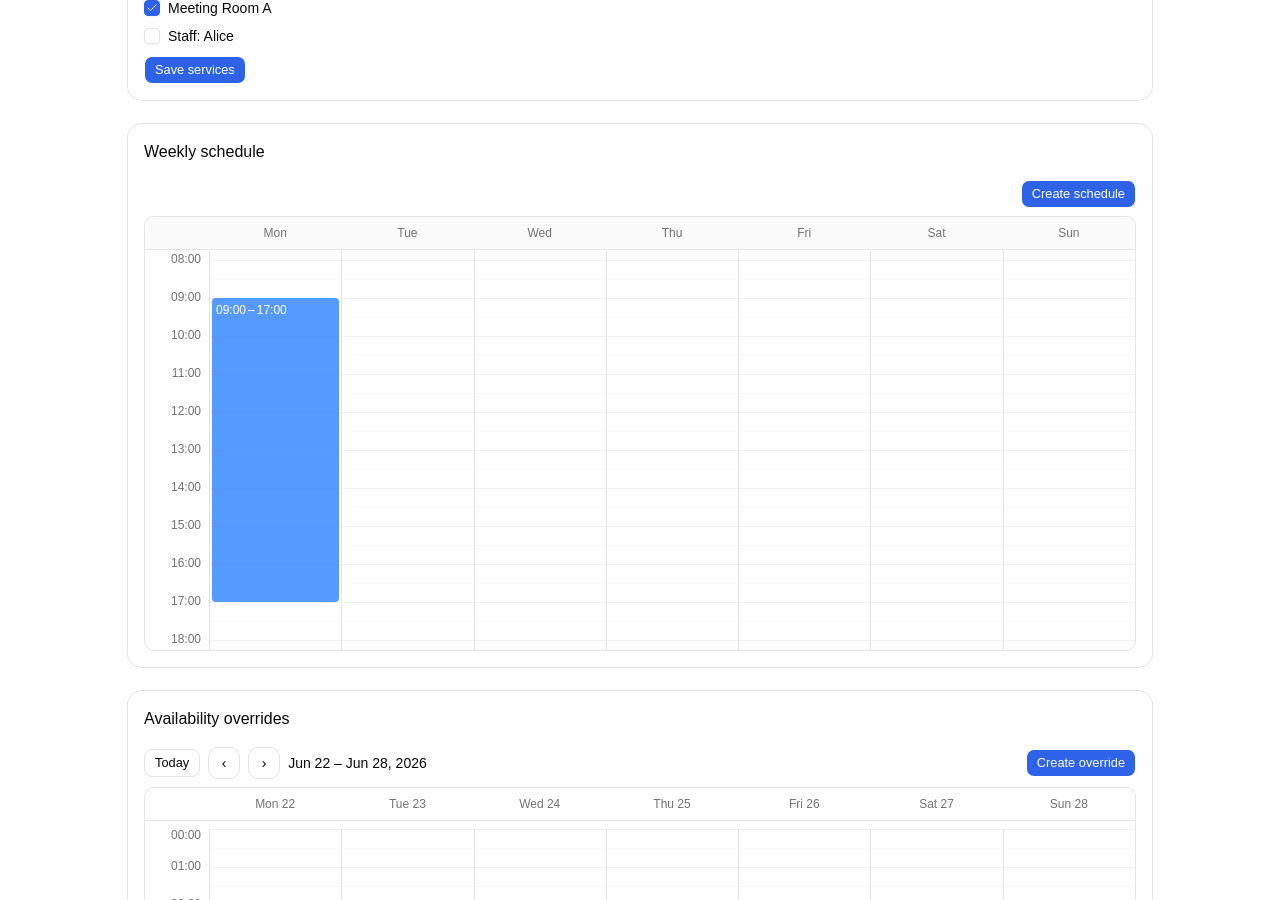
Test: Staff › Weekly schedule calendar › clicking a schedule block opens the schedule window panel
(page scrolled)
Step 1. Click the element with test id "schedule-block" → (276, 450), box [212,298,339,602]
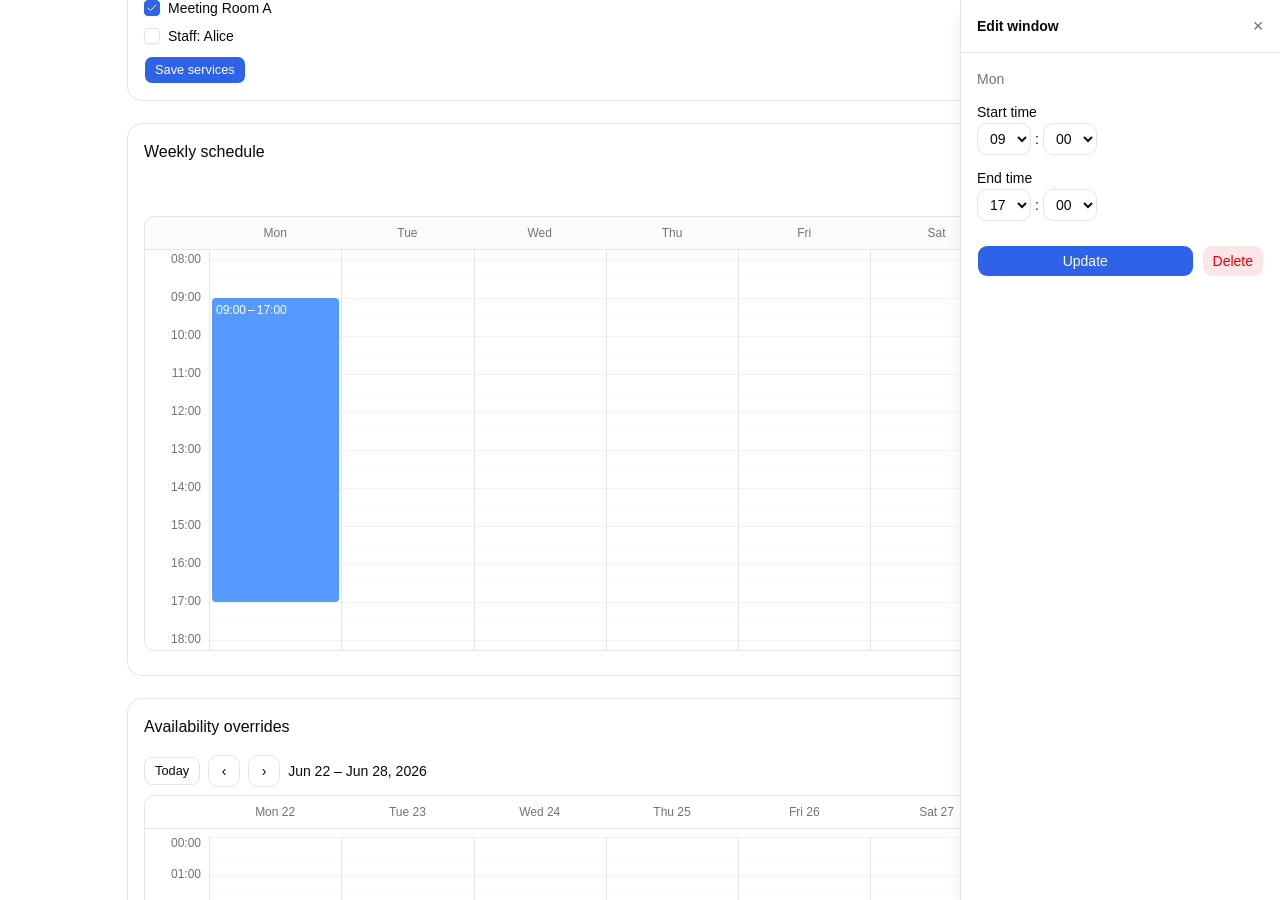
Check: the element with test id "schedule-window-panel" is shown, box [960,0,1279,899]
